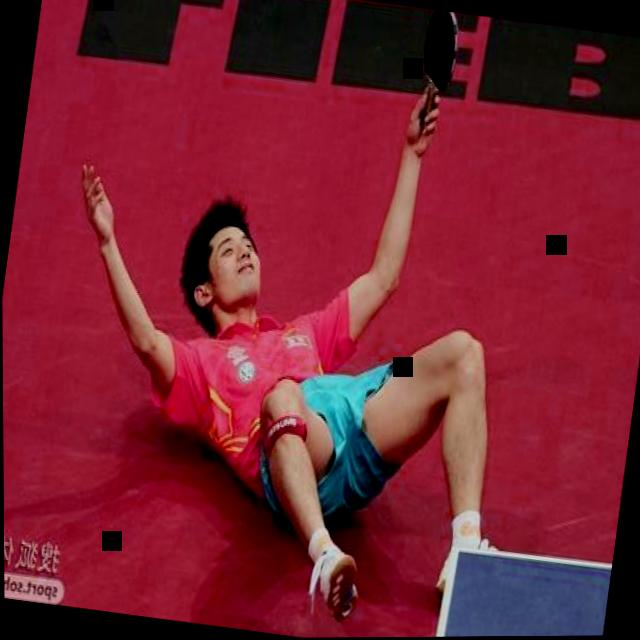Fall-Detected: (6, 0, 588, 640)
